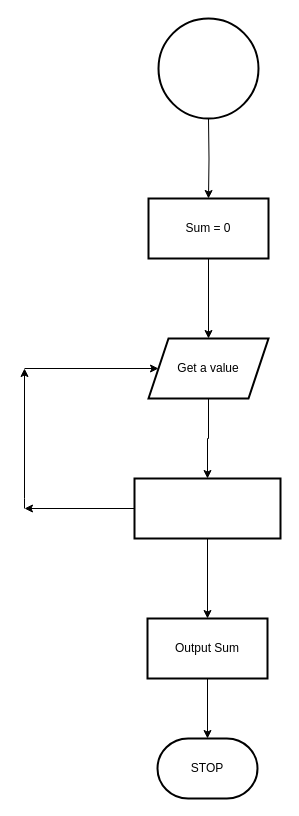
Some shapes in this 299 by 816 pixel diagram are drawn without their labels. The centre of each missing label's shape, as x and y in pixels:
Start: [208,68]
Sum = sum + value: [207,508]
